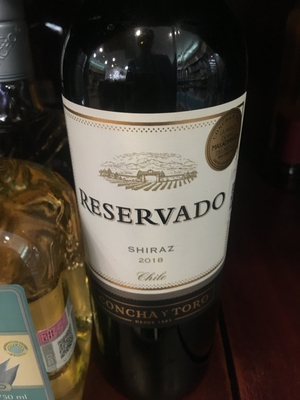reservado shiraz: (64, 24, 259, 373)
